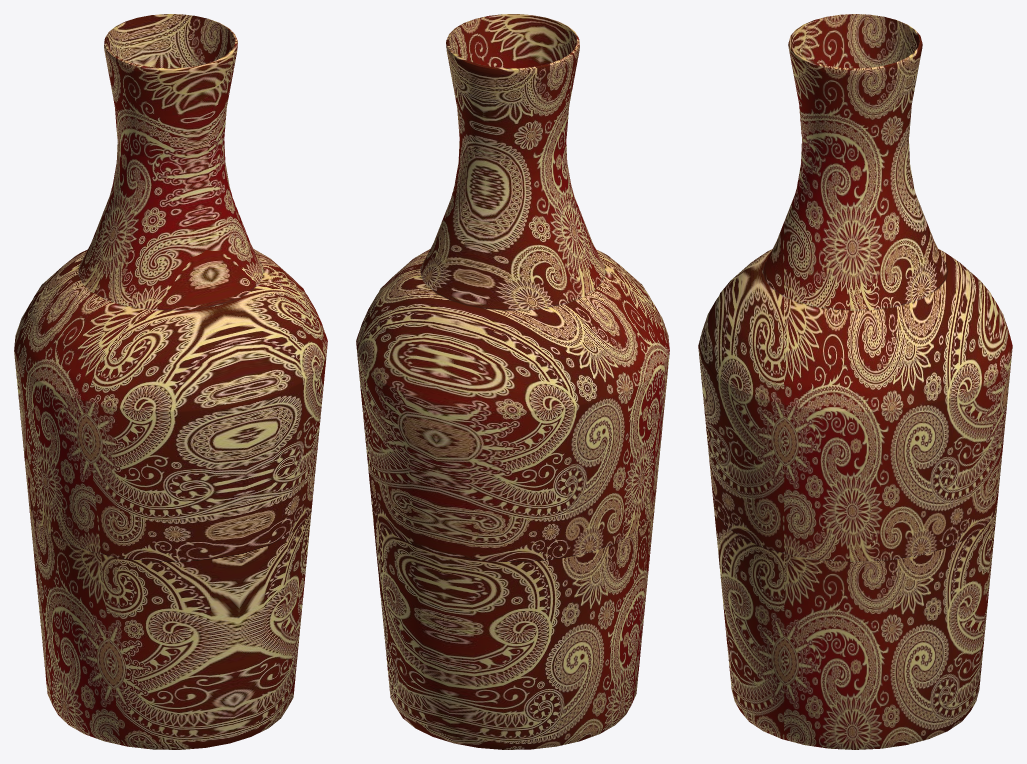
The model's file is OrnateVase.FBX.
The picture shows the model from 3 angles, left to right: view 1: azimuth 30°, elevation 25°; view 2: azimuth 150°, elevation 25°; view 3: azimuth 270°, elevation 25°; orthographic projection.
Visible parts, largest first — view 1: Cylinder001; view 2: Cylinder001; view 3: Cylinder001.
Boxes of the visible parts, bbox=[...] form: Cylinder001: bbox=[14, 14, 327, 749]; Cylinder001: bbox=[356, 14, 669, 749]; Cylinder001: bbox=[698, 14, 1012, 749].
Bounding box in the file's own units: 22.68 × 52.41 × 22.68.
Materials: 1 (1 with a texture image).
